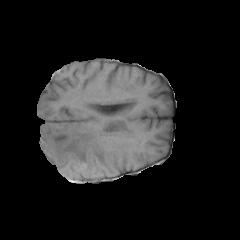glioma: (40, 123, 131, 177)
